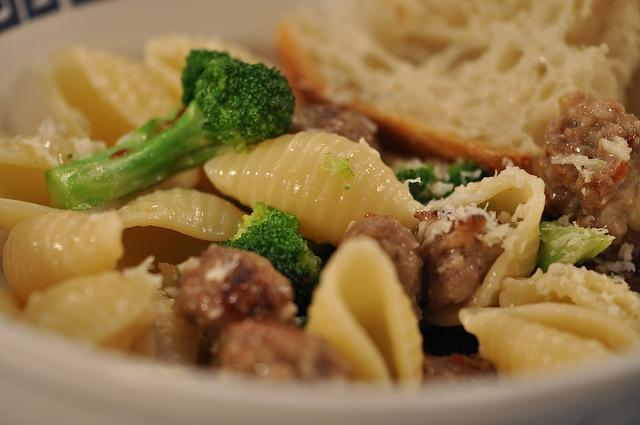broccoli: (46, 48, 296, 210), (218, 202, 322, 302), (531, 220, 613, 278), (393, 165, 435, 205)
